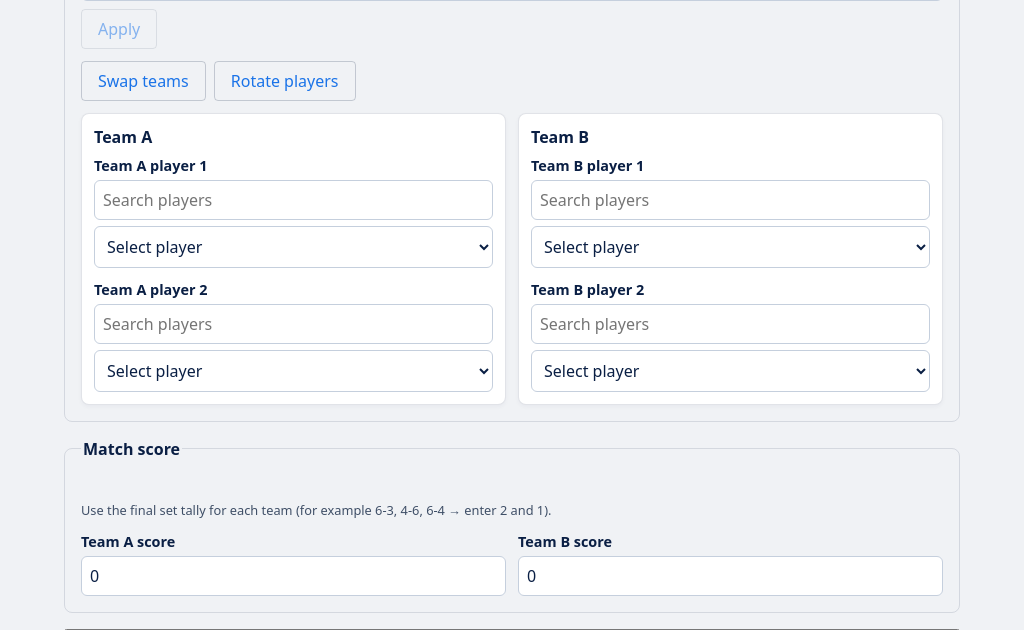
Test: RecordSportForm › highlights duplicate player names returned by the API
(page scrolled)
Step 1. Select "Alex Smith" in the dropdown labelled "Team A player 1" → (294, 247), box [94,226,493,268]
Step 2. Select "Beth Jones" in the dropdown labelled "Team A player 2" → (294, 371), box [94,350,493,392]
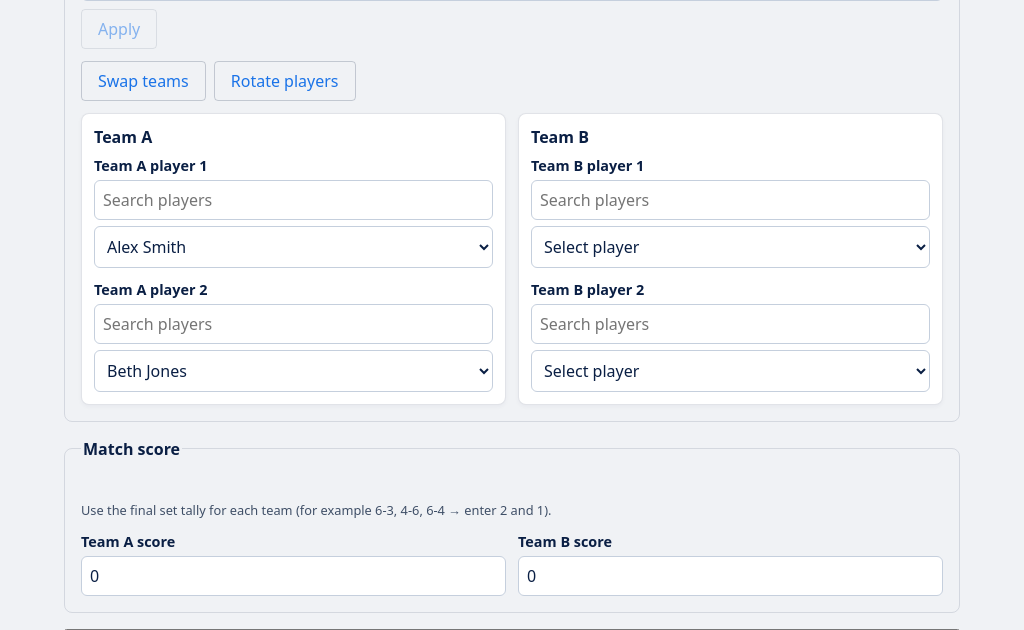
Step 3. Select "Alex Smith" in the dropdown labelled "Team B player 1" → (730, 247), box [531,226,930,268]
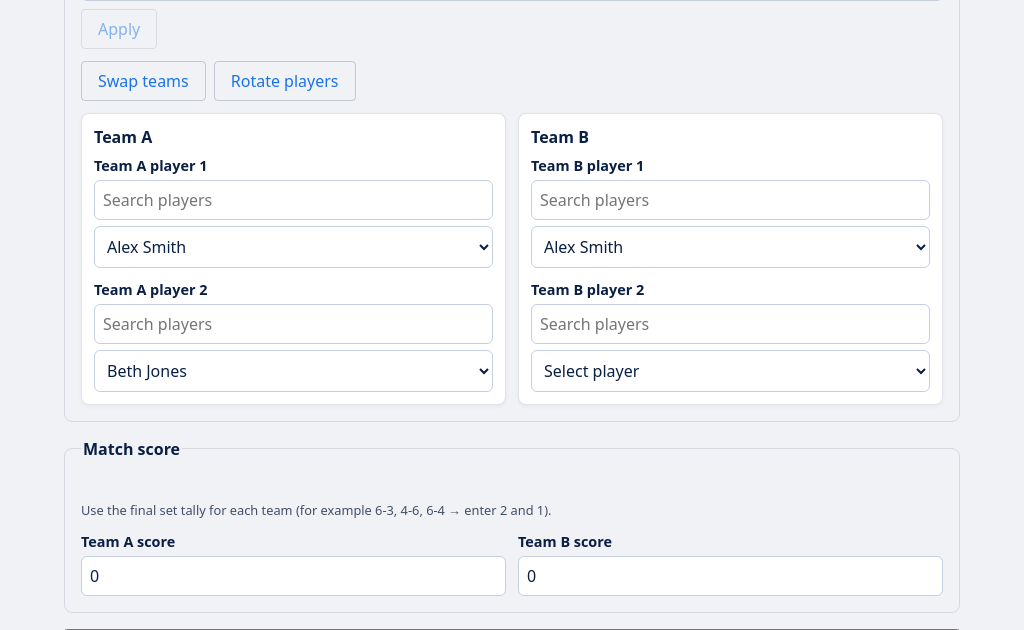
Step 4. Select "Cara Lee" in the dropdown labelled "Team B player 2" → (730, 371), box [531,350,930,392]
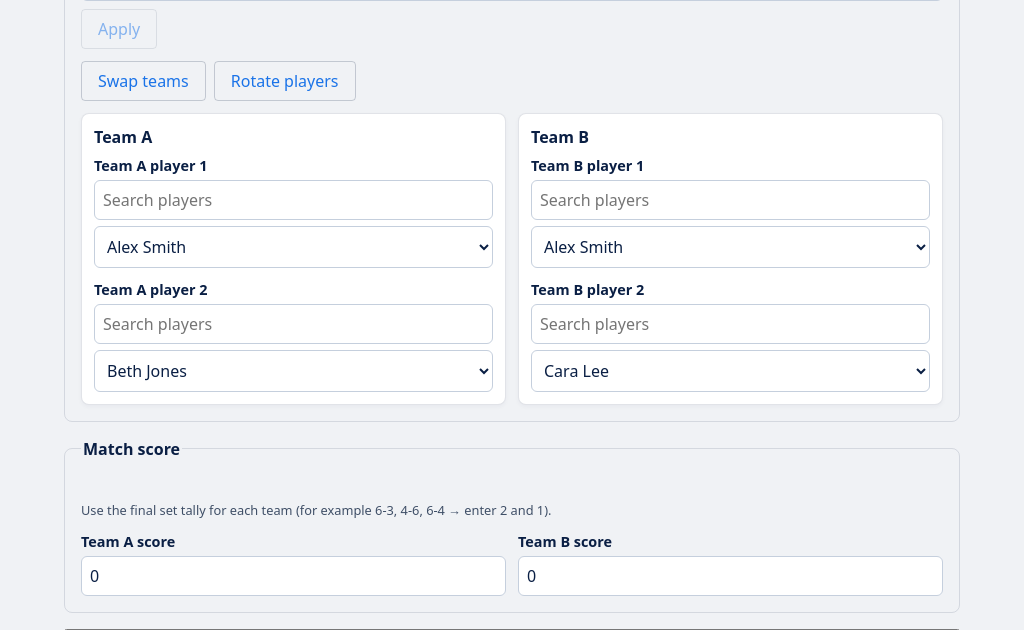
Step 5. Replace the text in the number field labelled "Team A score" with "2" → (294, 576), box [81,556,506,596]
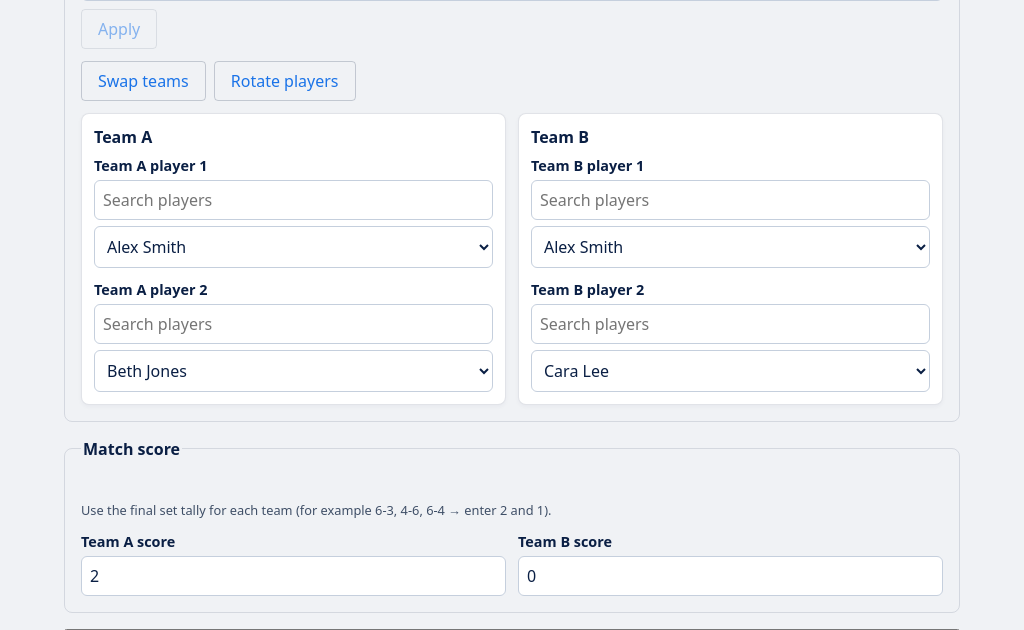
Step 6. Replace the text in the number field labelled "Team B score" with "1" → (730, 576), box [518,556,943,596]
(page scrolled)
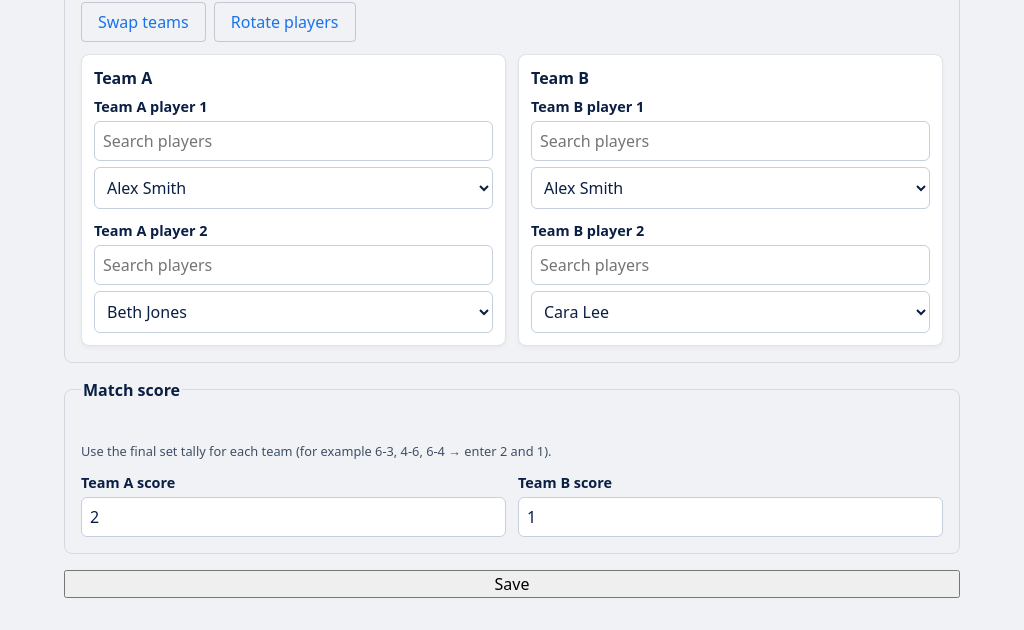
Step 7. Click the button "Save" → click(512, 584), box [64,570,960,598]
(page scrolled)
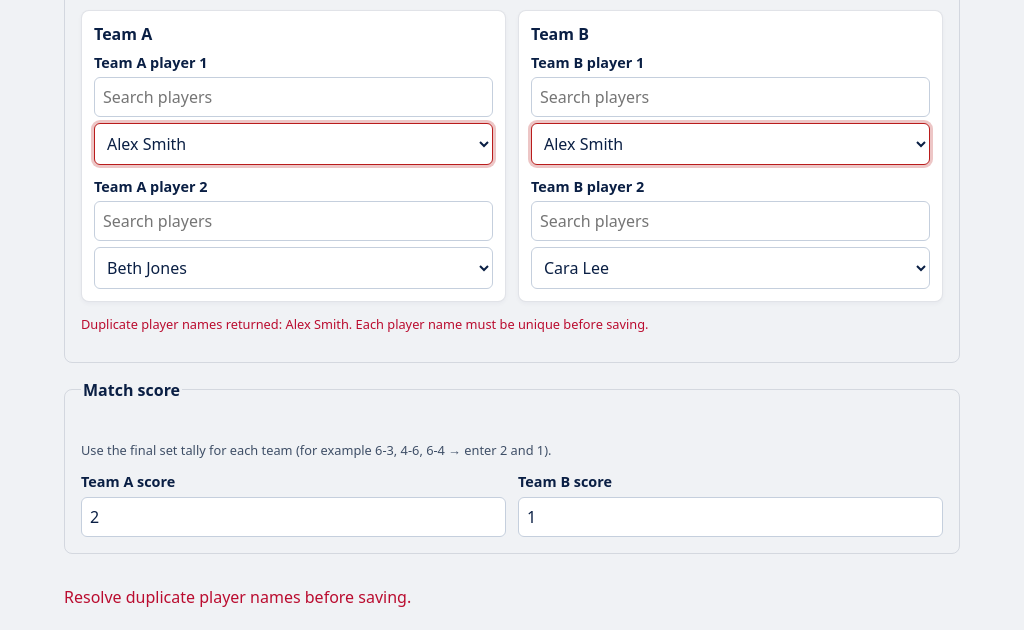
Now the text "Duplicate player names returned: Alex Smith. Each player name must be unique before saving." is shown, box [81,315,648,333]
Now the text "Resolve duplicate player names before saving." is shown, box [64,586,411,608]
